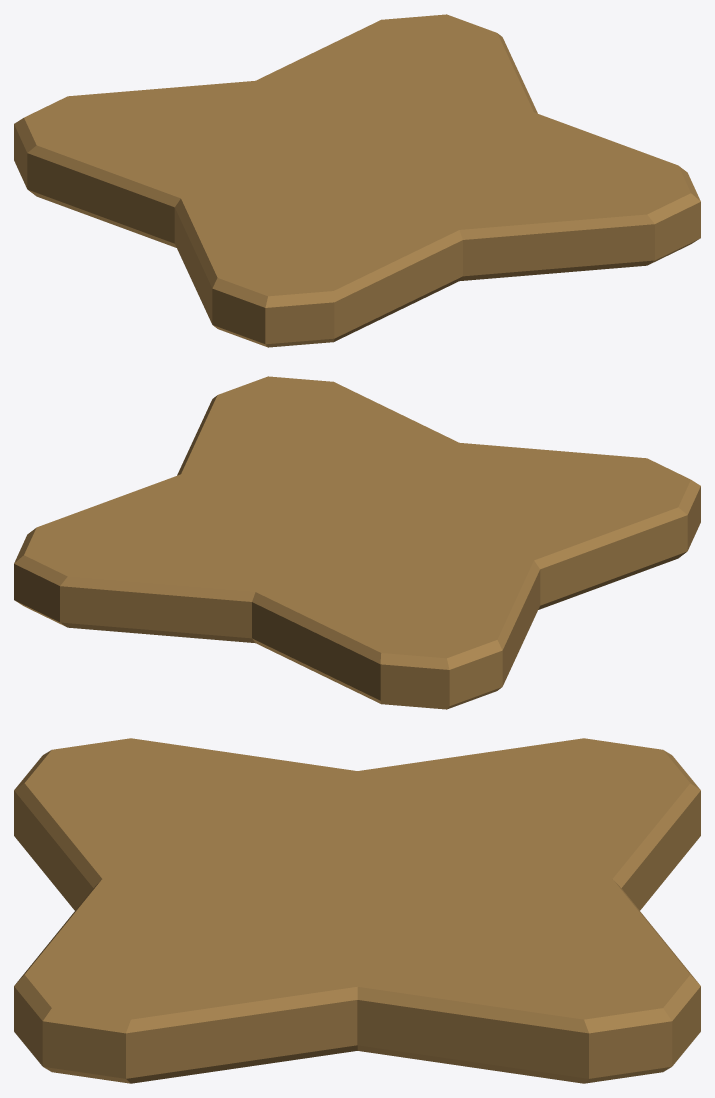
The model's file is buttombottom.fbx.
3 views of the same model, one above another, from view 1: azimuth 30°, elevation 25°; view 2: azimuth 150°, elevation 25°; view 3: azimuth 270°, elevation 25° (orthographic). The views are drawn at different scales.
Visible parts, largest first — view 1: Plane.004; view 2: Plane.004; view 3: Plane.004.
Part boxes in pixels (x1,y1,x2,y2): Plane.004: (14,14,700,347); Plane.004: (14,376,700,709); Plane.004: (14,738,700,1083).
Size of the model in its own units: 201 by 201 by 20.65.
